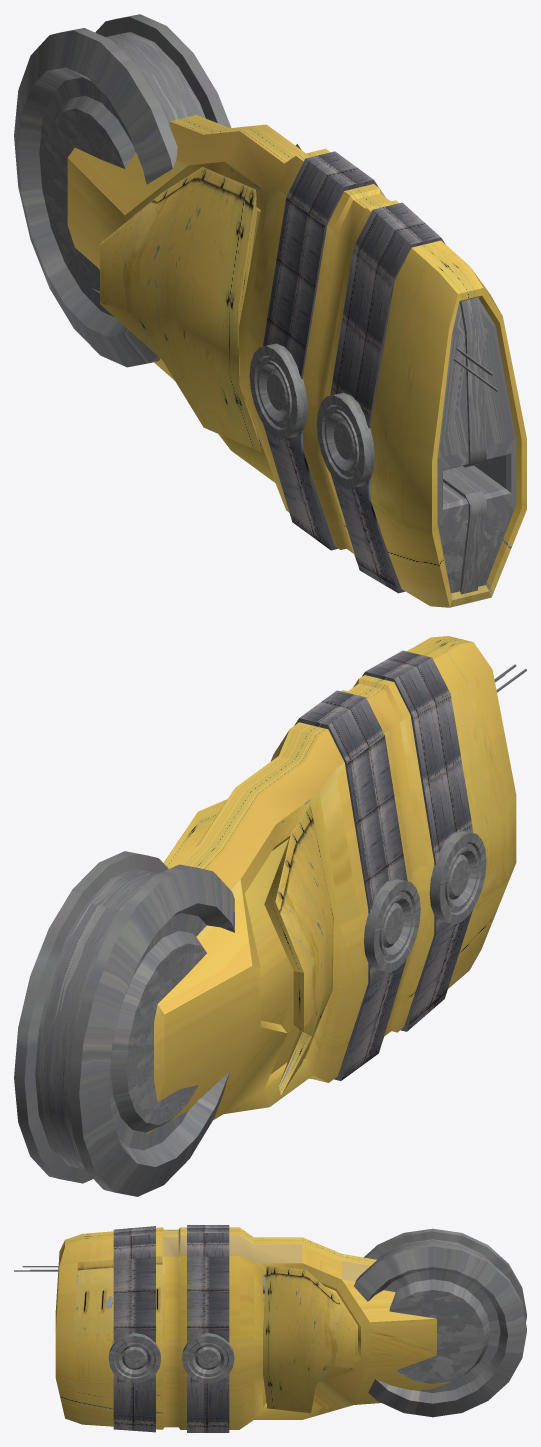
Rendered from mothership.obj.
3 renders of one model, top to bottom at view 1: azimuth 30°, elevation 25°; view 2: azimuth 150°, elevation 25°; view 3: azimuth 270°, elevation 25°, orthographic. The views are drawn at different scales.
Visible parts, largest first — view 1: pCube1, pCylinder3, pCube5, pCube9, pCube8, pCube2, pCylinder1, pCylinder2, pCube3, pCube4; view 2: pCube1, pCylinder3, pCube8, pCube9, pCube5, pCylinder1, pCylinder2, pasted__pCube5 group; view 3: pCube1, pCylinder3, pasted__pCube5 group, pCube8, pCube9, pCylinder2, pCylinder1.
Boxes of the visible parts, x1,y1,x2,y2 form: pCube1: [67, 115, 526, 607]; pCylinder3: [14, 14, 231, 367]; pCube5: [100, 167, 262, 452]; pCube9: [330, 202, 445, 593]; pCube8: [263, 151, 378, 550]; pCube2: [437, 299, 516, 593]; pCylinder1: [317, 392, 374, 488]; pCylinder2: [249, 343, 307, 439]; pCube3: [460, 297, 486, 467]; pCube4: [443, 468, 486, 594]; pCube1: [147, 636, 516, 1134]; pCylinder3: [14, 851, 234, 1196]; pCube8: [294, 690, 407, 1080]; pCube9: [362, 650, 473, 1031]; pCube5: [264, 804, 333, 1095]; pCylinder1: [429, 830, 486, 924]; pCylinder2: [364, 878, 420, 972]; pasted__pCube5 group: [163, 799, 227, 868]; pCube1: [55, 1227, 450, 1429]; pCylinder3: [354, 1228, 526, 1417]; pasted__pCube5 group: [263, 1265, 354, 1413]; pCube8: [187, 1225, 229, 1432]; pCube9: [113, 1226, 155, 1432]; pCylinder2: [182, 1333, 234, 1383]; pCylinder1: [108, 1333, 160, 1383].
Bounding box in the file's own units: 12.68 × 20.71 × 48.98.
